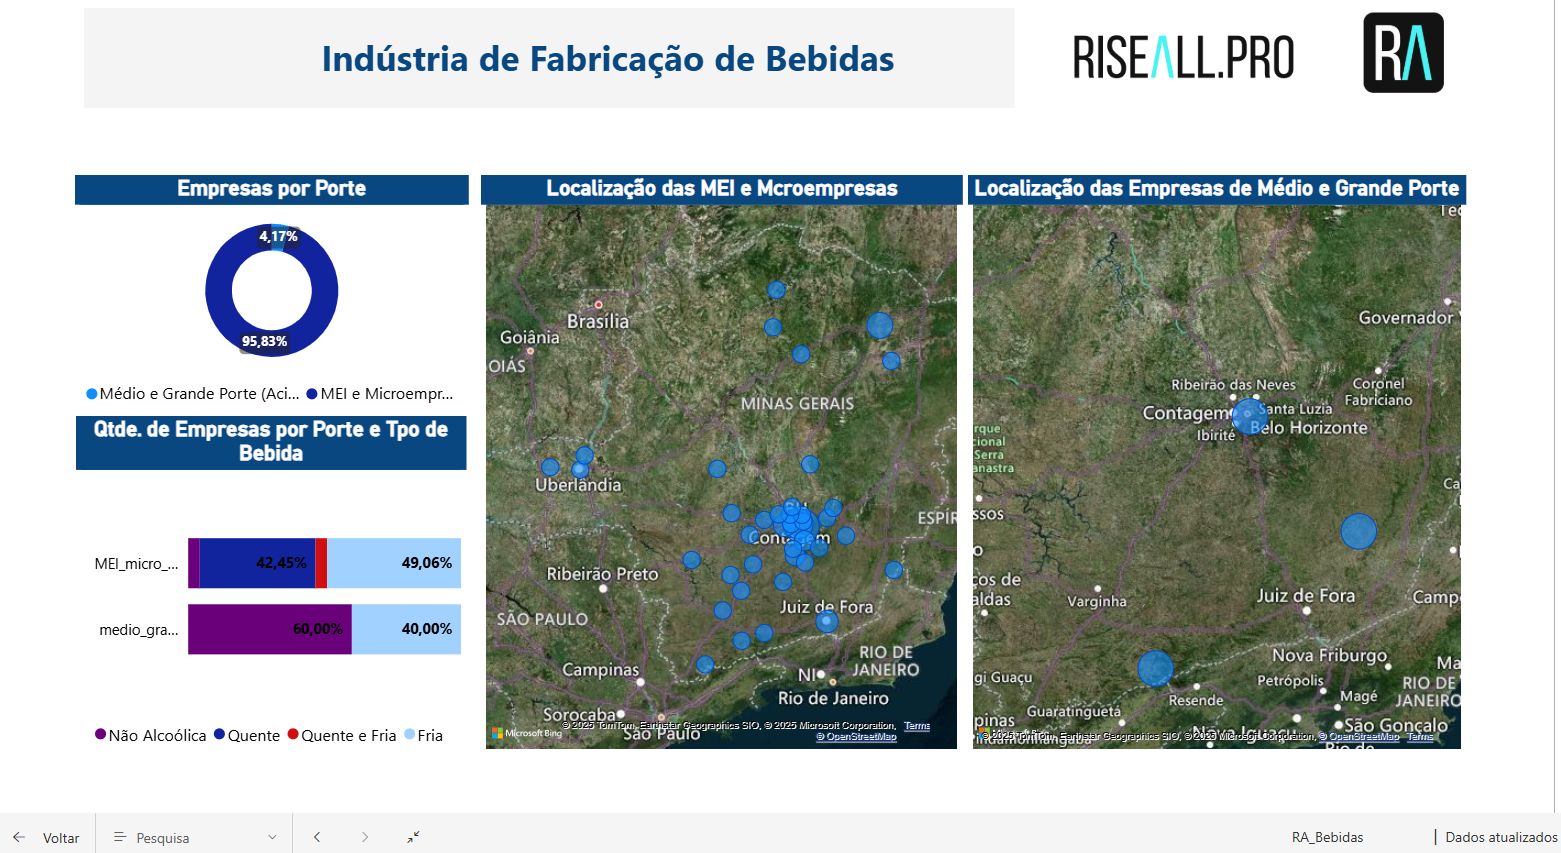

The dashboard page shown, as its layout file describes it:
{"tool":"powerbi","page":{"name":"Pesquisa","canvas":[1280,720],"ordinal":7},"visuals":[{"type":"textbox","box":[15.8,11.5,846.5,90.5],"z":0},{"type":"hundredPercentStackedBarChart","title":"Qtde. de Empresas por Porte e Tpo de Bebida","fields":{"Category":["BI Volume e capacidade.Indicadores","BI Volume e capacidade.Porte"],"Y":["Sum(BI Volume e capacidade.n_alcool)","Sum(BI Volume e capacidade.quente)","Sum(BI Volume e capacidade.quente_fria)","Sum(BI Volume e capacidade.fria)"]},"box":[8.6,382.3,355,309],"z":3000},{"type":"donutChart","title":"Empresas por Porte","fields":{"Y":["Sum(Cidades.Médio e Grande Porte (Acima de 50 funcionários))","Sum(Cidades.MEI e Microempresa e EPP (Até 49 funcionários))"]},"box":[7.2,163.8,357.8,218.4],"z":4000},{"type":"map","title":"Localização das Empresas de Médio e Grande Porte","fields":{"Y":["Cidades.Latitude"],"X":["Cidades.Longitude"],"Size":["Sum(Cidades.Médio e Grande Porte (Acima de 50 funcionários))"]},"box":[819.2,163.8,452.7,527.4],"z":5000},{"type":"map","title":"Localização das MEI e Mcroempresas","fields":{"Y":["Cidades.Latitude"],"X":["Cidades.Longitude"],"Size":["Sum(Cidades.MEI e Microempresa e EPP (Até 49 funcionários))"]},"box":[376.5,163.8,438.3,527.4],"z":6000},{"type":"image","box":[911.1,23.5,208.7,64.5],"z":6001},{"type":"image","box":[1172.6,10.6,84.4,83.3],"z":6002}]}

Visuals, with their boxes on the page's 1280x720 design canvas (x1, y1, x2, y2). These are canvas units, not pixel positions in the 1561x853 screenshot, which may show the page scaled, cropped or inside an application window:
textbox: region(16, 12, 862, 102)
"Qtde. de Empresas por Porte e Tpo de Bebida" hundredPercentStackedBarChart: region(9, 382, 364, 691)
"Empresas por Porte" donutChart: region(7, 164, 365, 382)
"Localização das Empresas de Médio e Grande Porte" map: region(819, 164, 1272, 691)
"Localização das MEI e Mcroempresas" map: region(376, 164, 815, 691)
image: region(911, 24, 1120, 88)
image: region(1173, 11, 1257, 94)
